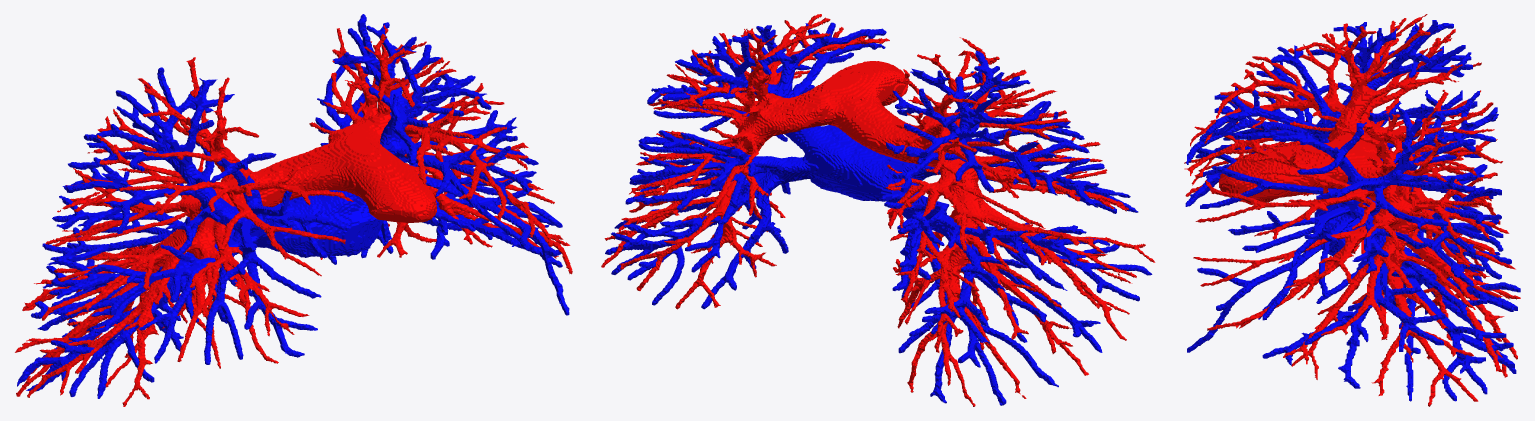
The picture shows the model from 3 angles, left to right: view 1: azimuth 30°, elevation 25°; view 2: azimuth 150°, elevation 25°; view 3: azimuth 270°, elevation 25°; orthographic projection. The views are drawn at different scales.
Parts seen in each view (by area): view 1: temp_2, temp_1; view 2: temp_2, temp_1; view 3: temp_2, temp_1.
Boxes of the visible parts, <box> form: temp_2: <box>17,14,569,398</box>; temp_1: <box>15,25,572,406</box>; temp_2: <box>605,22,1152,405</box>; temp_1: <box>601,14,1155,406</box>; temp_2: <box>1185,20,1520,401</box>; temp_1: <box>1184,14,1520,406</box>.
Size of the model in its own units: 387 by 225 by 232.
